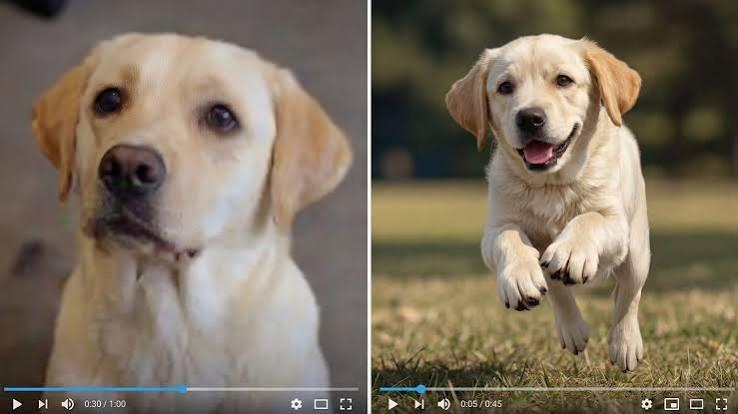adult_dog: (29, 31, 355, 414)
puppy-dog: (446, 32, 654, 373)
